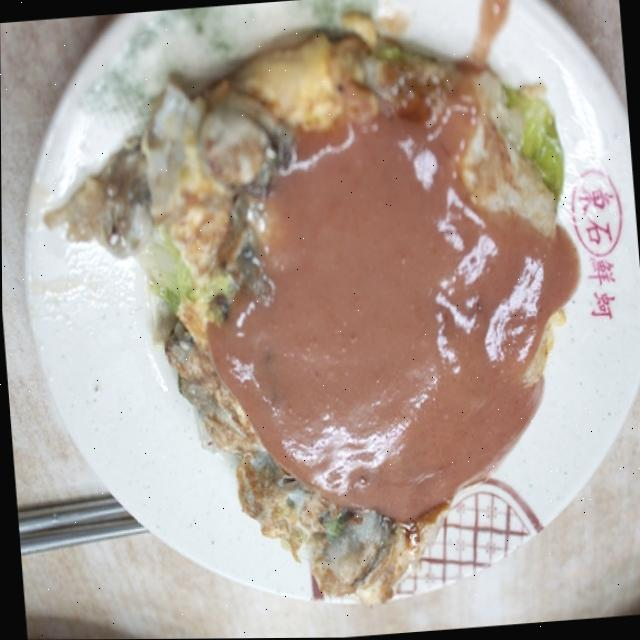熟制海鲜: (21, 0, 640, 637)
